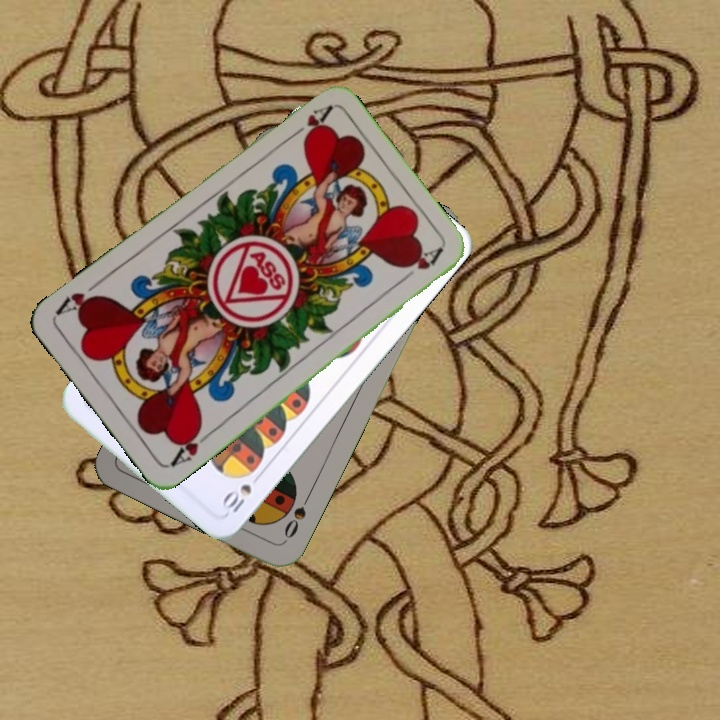HA: (166, 422, 216, 469), (282, 102, 334, 144)
S10: (218, 480, 255, 517)
SO: (279, 490, 313, 541)
